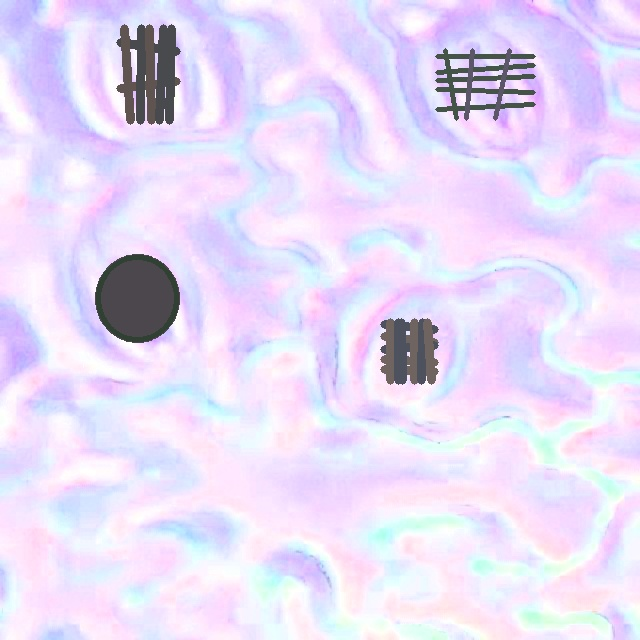close: (116, 24, 180, 123)
open: (95, 254, 178, 342), (435, 48, 535, 120), (380, 318, 438, 384)
